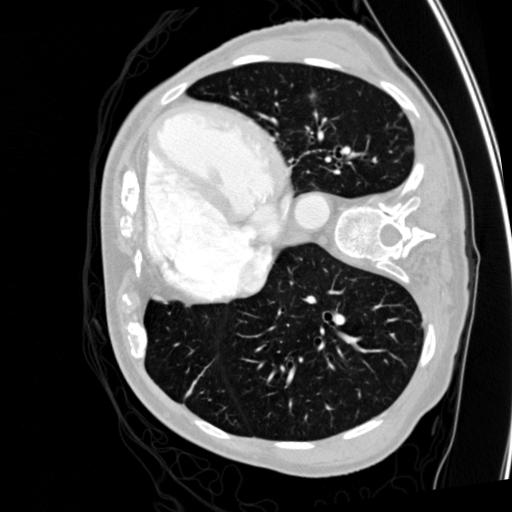nodule: (306, 89, 323, 106)
